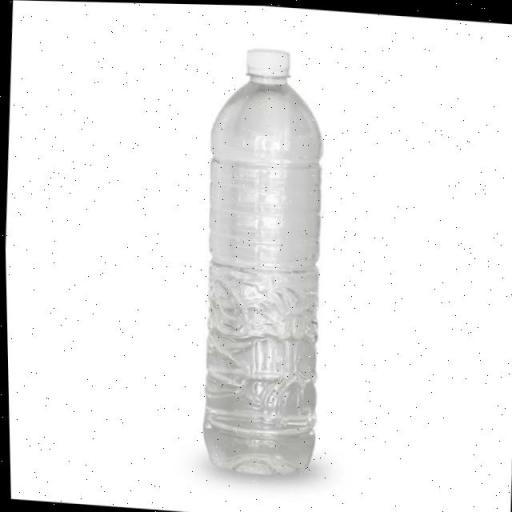plastic: (187, 40, 343, 486)
